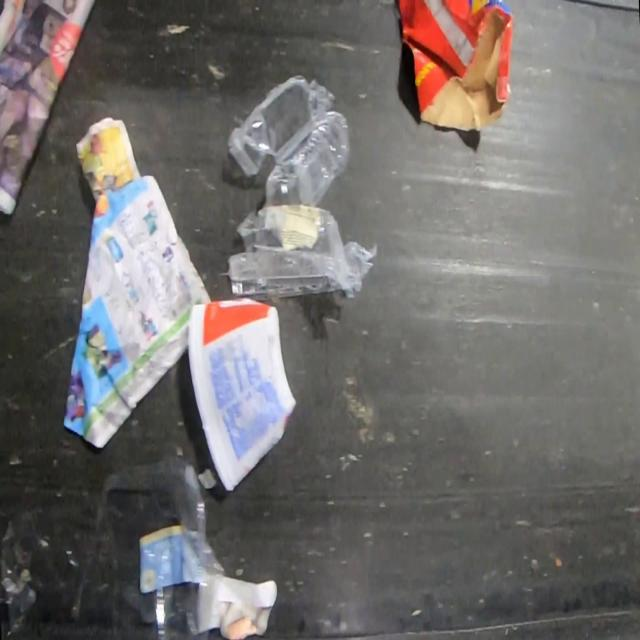cardboard: (396, 0, 514, 134)
rigid_plastic: (227, 76, 378, 301), (186, 297, 300, 491)
soft_plastic: (0, 454, 224, 640)
